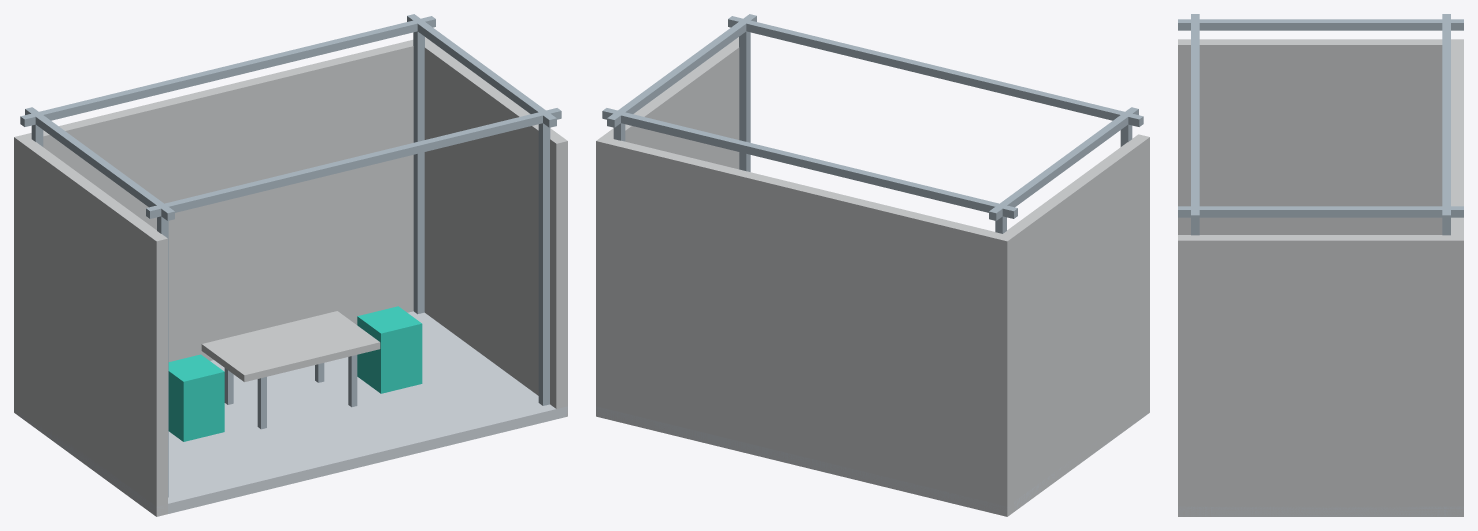
The picture shows the model from 3 angles, left to right: view 1: azimuth 30°, elevation 25°; view 2: azimuth 150°, elevation 25°; view 3: azimuth 270°, elevation 25°; orthographic projection.
Visible parts, largest first — view 1: Exhibition Booth Concept; view 2: Exhibition Booth Concept; view 3: Exhibition Booth Concept.
Boxes of the visible parts, box(x1,y1,x2,y2) form: Exhibition Booth Concept: box(14, 14, 567, 516); Exhibition Booth Concept: box(596, 14, 1149, 516); Exhibition Booth Concept: box(1178, 14, 1463, 516).
Size of the model in its own units: 5 by 3.49 by 3.
